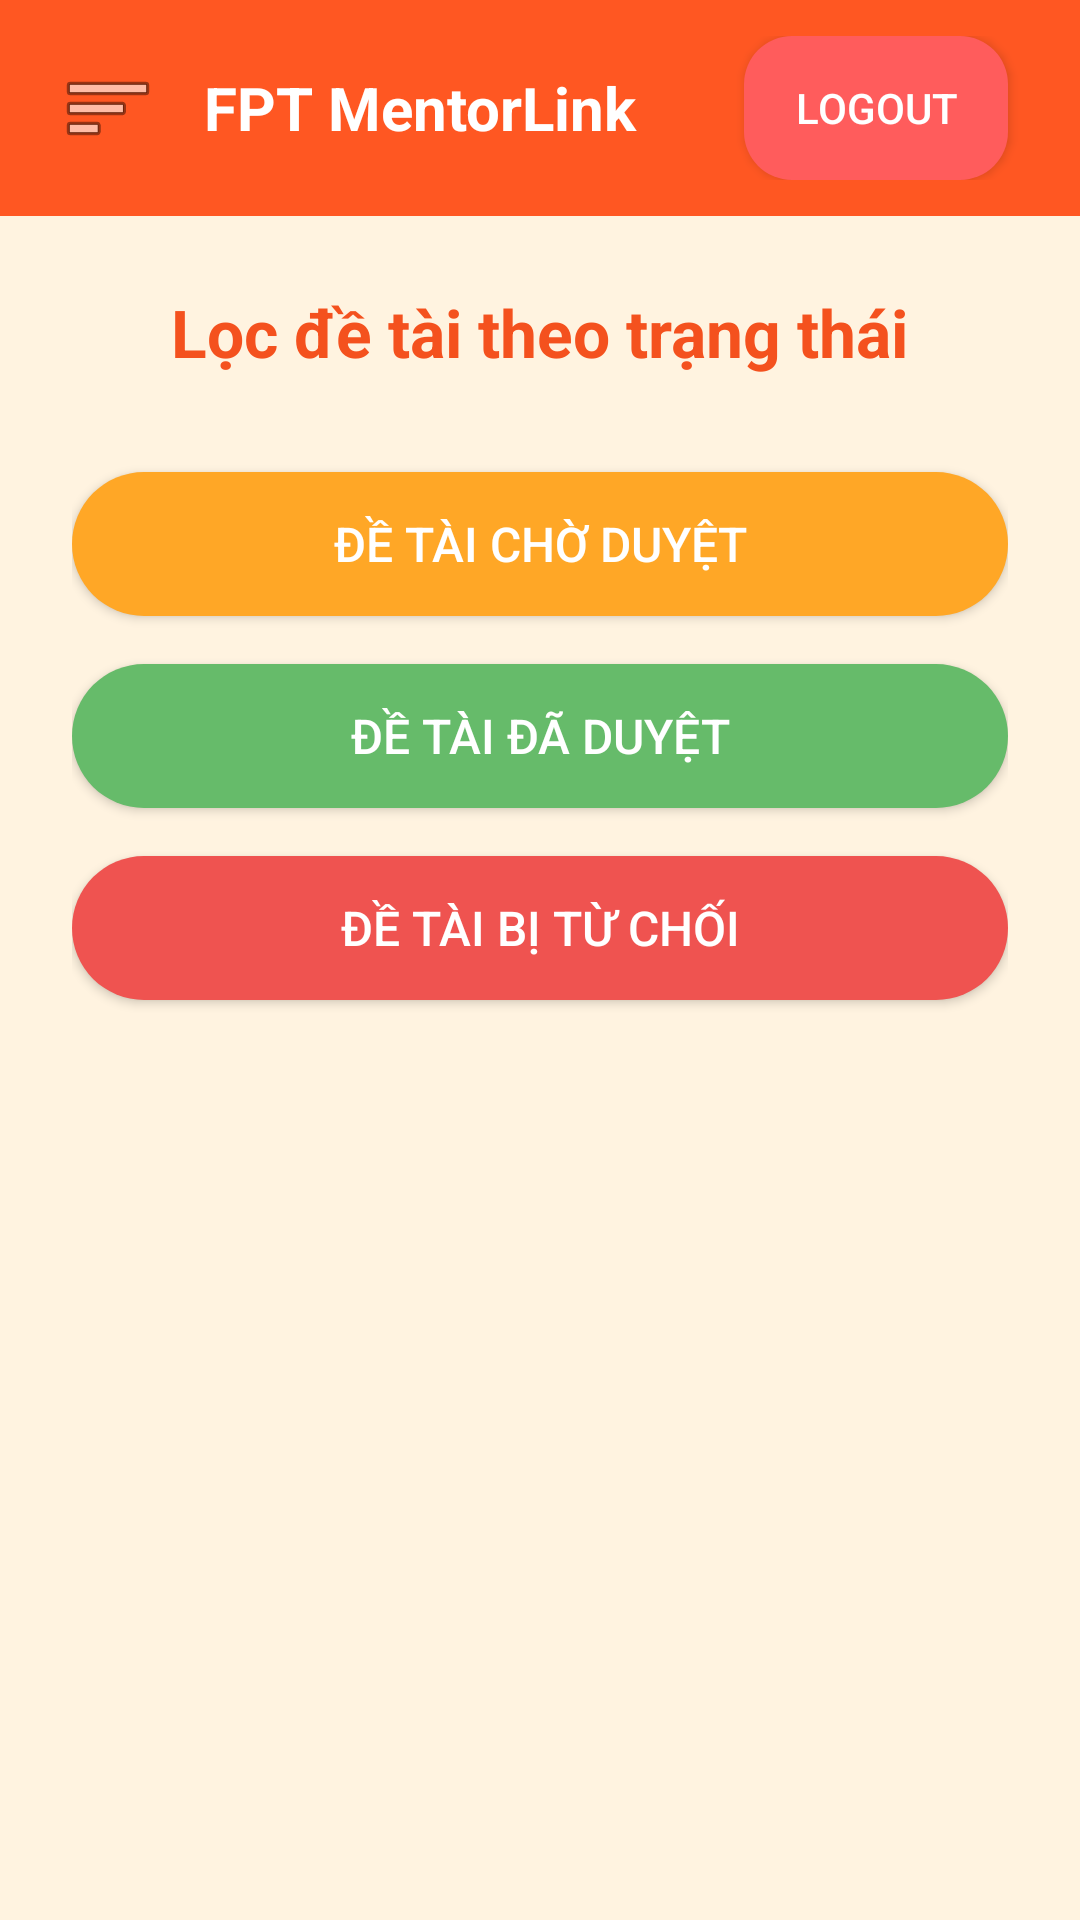

Point at icon controls on the screen. Image size 1080*1920, points as [x,y].
Menu: [108,108]
